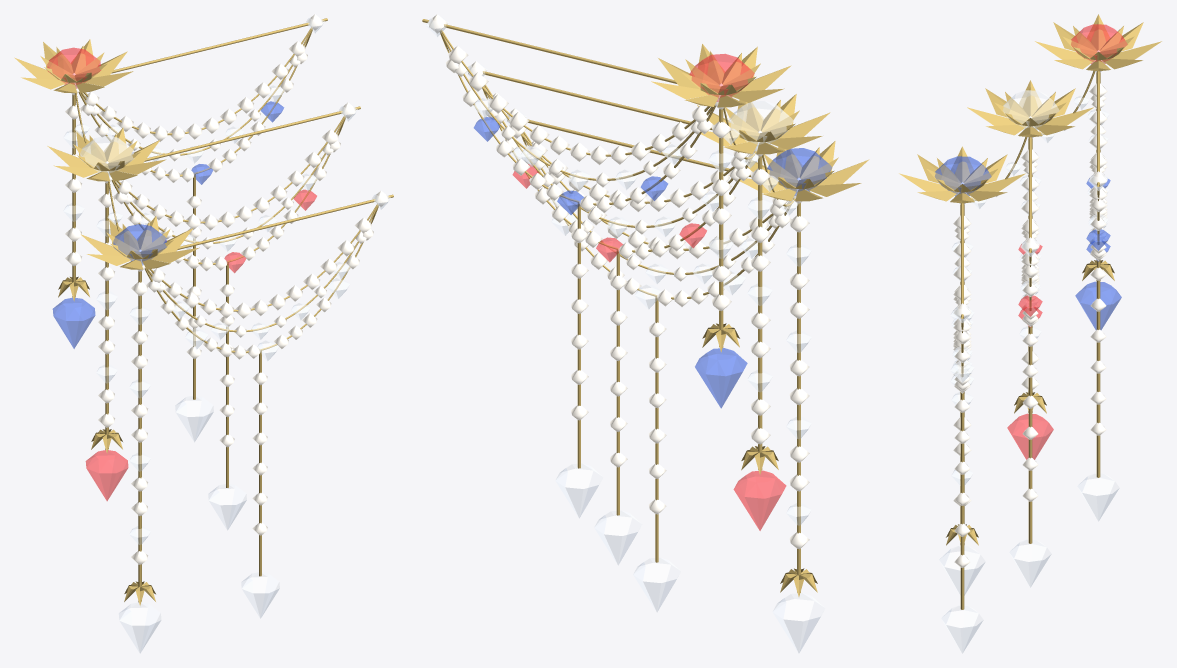
The model's file is ramou_short.glb.
The picture shows the model from 3 angles, left to right: view 1: azimuth 30°, elevation 25°; view 2: azimuth 150°, elevation 25°; view 3: azimuth 270°, elevation 25°; orthographic projection. The views are drawn at different scales.
Parts seen in each view (by area): view 1: pearl_batch, hari_batch, gold_fitting, gold_wire, shuju_batch, lapis_batch; view 2: pearl_batch, hari_batch, gold_fitting, gold_wire, lapis_batch, shuju_batch; view 3: gold_fitting, hari_batch, pearl_batch, gold_wire, lapis_batch, shuju_batch.
Part boxes in pixels (<box>): pearl_batch: <box>65,14,388,564</box>; hari_batch: <box>63,16,390,653</box>; gold_fitting: <box>14,39,199,605</box>; gold_wire: <box>72,18,393,602</box>; shuju_batch: <box>47,47,316,500</box>; lapis_batch: <box>52,101,283,348</box>; pearl_batch: <box>428,14,809,549</box>; hari_batch: <box>426,17,824,653</box>; gold_fitting: <box>651,44,869,596</box>; gold_wire: <box>422,19,800,592</box>; lapis_batch: <box>474,117,831,408</box>; shuju_batch: <box>512,54,786,530</box>; gold_fitting: <box>899,14,1161,545</box>; hari_batch: <box>939,60,1119,653</box>; pearl_batch: <box>953,50,1107,567</box>; gold_wire: <box>960,70,1100,609</box>; lapis_batch: <box>935,156,1121,329</box>; shuju_batch: <box>1007,24,1127,459</box>.
Bounding box in the file's own units: 7.52 × 12.9 × 5.44.
